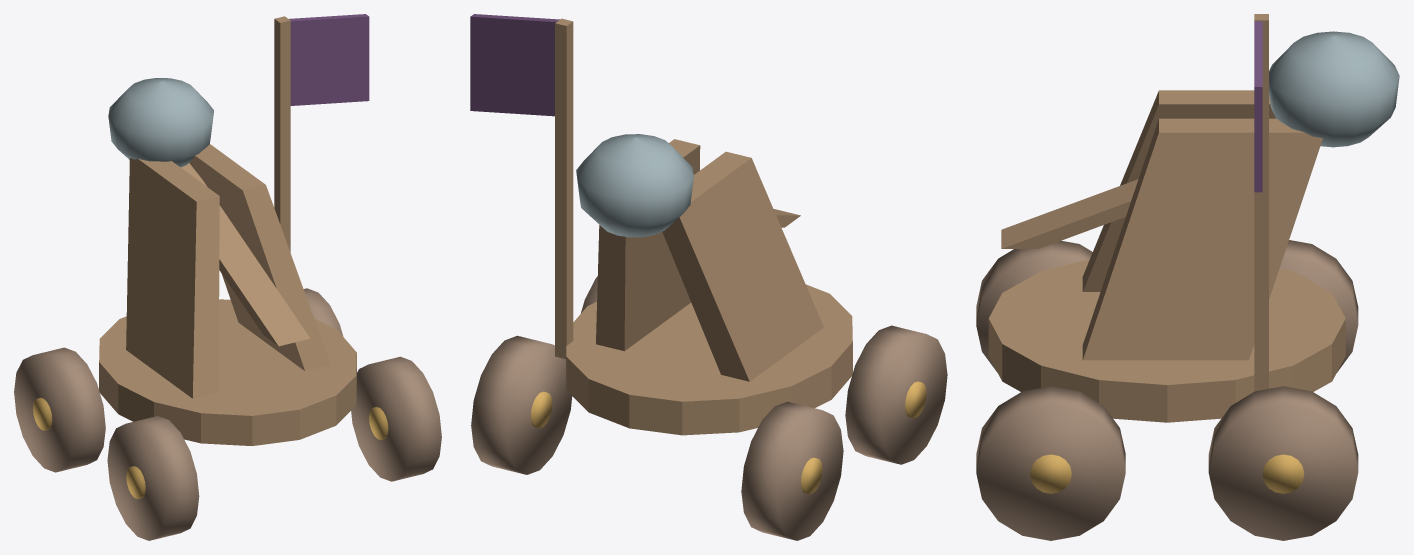
The model's file is catapult.glb.
3 renders of one model, left to right at view 1: azimuth 30°, elevation 25°; view 2: azimuth 150°, elevation 25°; view 3: azimuth 270°, elevation 25°, orthographic. The views are drawn at different scales.
Visible parts, largest first — view 1: Siege deck, A frame, A frame.001, Wheel carved rim, Wheel carved rim.001, Wheel carved rim.002, Sling stone, Regional siege banner, Throwing arm, Flagpole, Wheel carved rim.003, Wheel hub (+2 smaller); view 2: Siege deck, A frame, Wheel carved rim.001, Wheel carved rim, Wheel carved rim.003, Sling stone, A frame.001, Regional siege banner, Flagpole, Wheel hub.001, Wheel hub, Wheel hub.003; view 3: A frame.001, Siege deck, Wheel carved rim.003, Wheel carved rim.002, Sling stone, A frame, Flagpole, Throwing arm, Wheel carved rim, Wheel carved rim.001, Regional siege banner, Wheel hub.003 (+1 smaller).
Part boxes in pixels (bbox=[...]): Siege deck: bbox=[99, 299, 356, 445]; A frame: bbox=[126, 158, 219, 398]; A frame.001: bbox=[189, 144, 330, 371]; Wheel carved rim: bbox=[107, 416, 199, 540]; Wheel carved rim.001: bbox=[14, 347, 105, 472]; Wheel carved rim.002: bbox=[351, 356, 441, 481]; Sling stone: bbox=[108, 78, 213, 167]; Regional siege banner: bbox=[289, 14, 369, 105]; Throwing arm: bbox=[181, 163, 310, 346]; Flagpole: bbox=[274, 16, 290, 252]; Wheel carved rim.003: bbox=[303, 288, 343, 336]; Wheel hub: bbox=[126, 466, 145, 499]; Siege deck: bbox=[566, 284, 852, 435]; A frame: bbox=[662, 151, 823, 381]; Wheel carved rim.001: bbox=[741, 401, 843, 540]; Wheel carved rim: bbox=[845, 325, 947, 464]; Wheel carved rim.003: bbox=[471, 335, 572, 474]; Sling stone: bbox=[576, 134, 693, 237]; A frame.001: bbox=[596, 139, 700, 351]; Regional siege banner: bbox=[470, 14, 559, 116]; Flagpole: bbox=[555, 18, 573, 358]; Wheel hub.001: bbox=[801, 457, 822, 494]; Wheel hub: bbox=[905, 381, 926, 418]; Wheel hub.003: bbox=[530, 391, 552, 428]; A frame.001: bbox=[1082, 118, 1322, 360]; Siege deck: bbox=[988, 259, 1345, 422]; Wheel carved rim.003: bbox=[1208, 386, 1358, 540]; Wheel carved rim.002: bbox=[976, 386, 1125, 540]; Sling stone: bbox=[1269, 31, 1399, 147]; A frame: bbox=[1082, 90, 1276, 291]; Flagpole: bbox=[1254, 14, 1268, 391]; Throwing arm: bbox=[1001, 179, 1138, 248]; Wheel carved rim: bbox=[976, 240, 1092, 372]; Wheel carved rim.001: bbox=[1280, 240, 1358, 372]; Regional siege banner: bbox=[1254, 21, 1262, 192]; Wheel hub.003: bbox=[1262, 454, 1304, 493].
Bounding box in the file's own units: 1.09 × 1.32 × 1.02.
